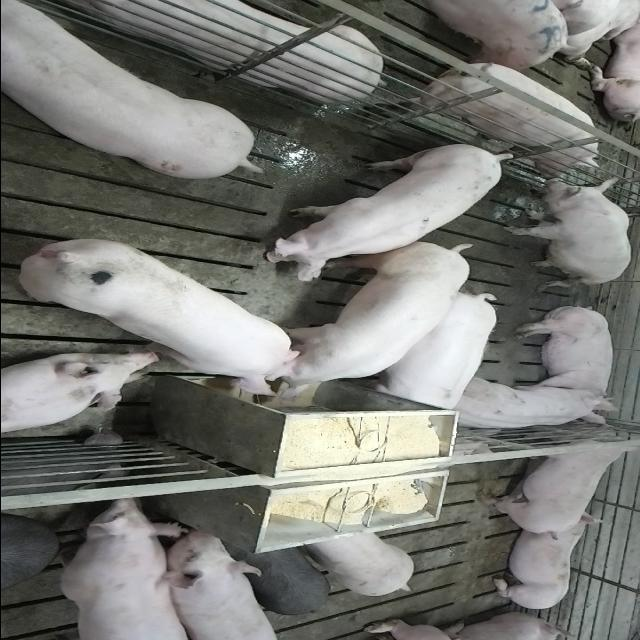Feeding: (15, 236, 307, 400), (256, 238, 475, 406)
Lateral_lying: (512, 302, 618, 416)
Sitting: (500, 174, 632, 286)
Standing: (0, 0, 258, 176), (256, 142, 514, 282), (384, 62, 598, 176), (32, 498, 192, 639), (472, 428, 638, 540), (366, 288, 498, 414), (157, 528, 283, 637), (392, 0, 572, 70), (222, 538, 330, 616), (300, 530, 414, 596), (2, 518, 62, 602)
Sternal_lying: (34, 0, 380, 99), (0, 352, 159, 439), (484, 518, 602, 612), (449, 377, 613, 434)
